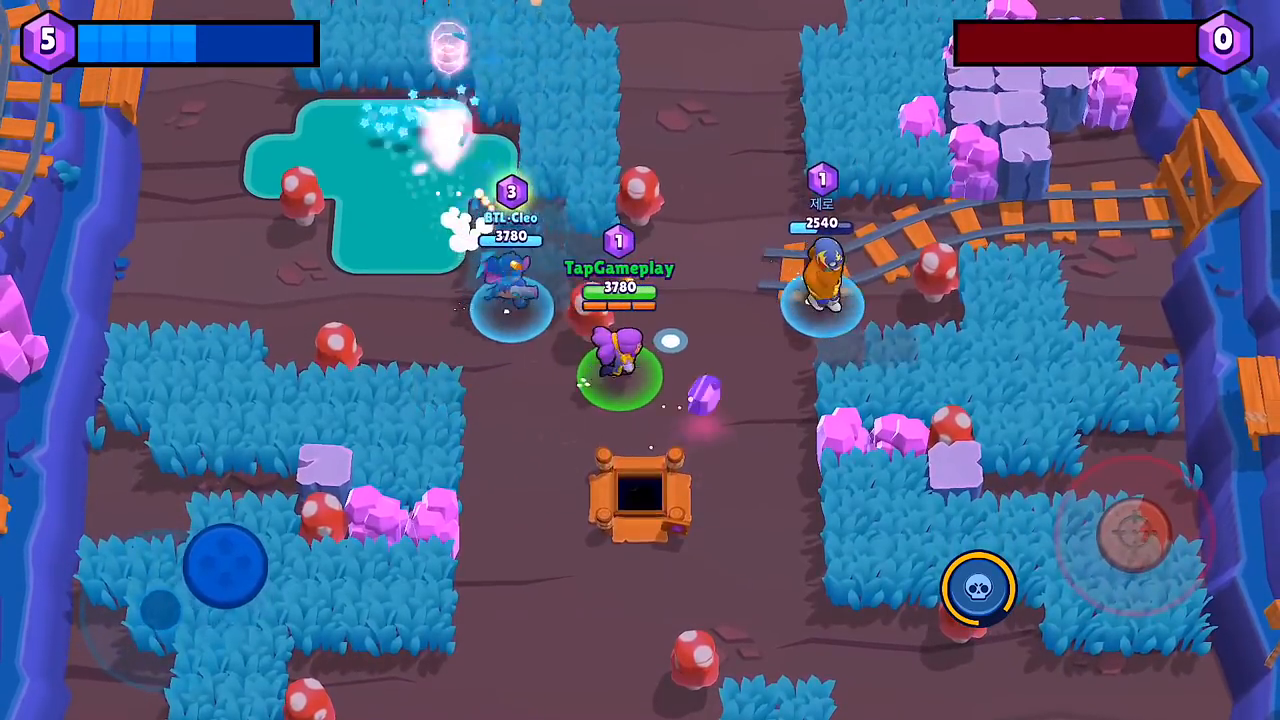move_stick: (190, 525, 272, 615)
